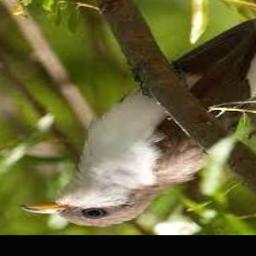Cuckoo: (19, 0, 256, 228)
